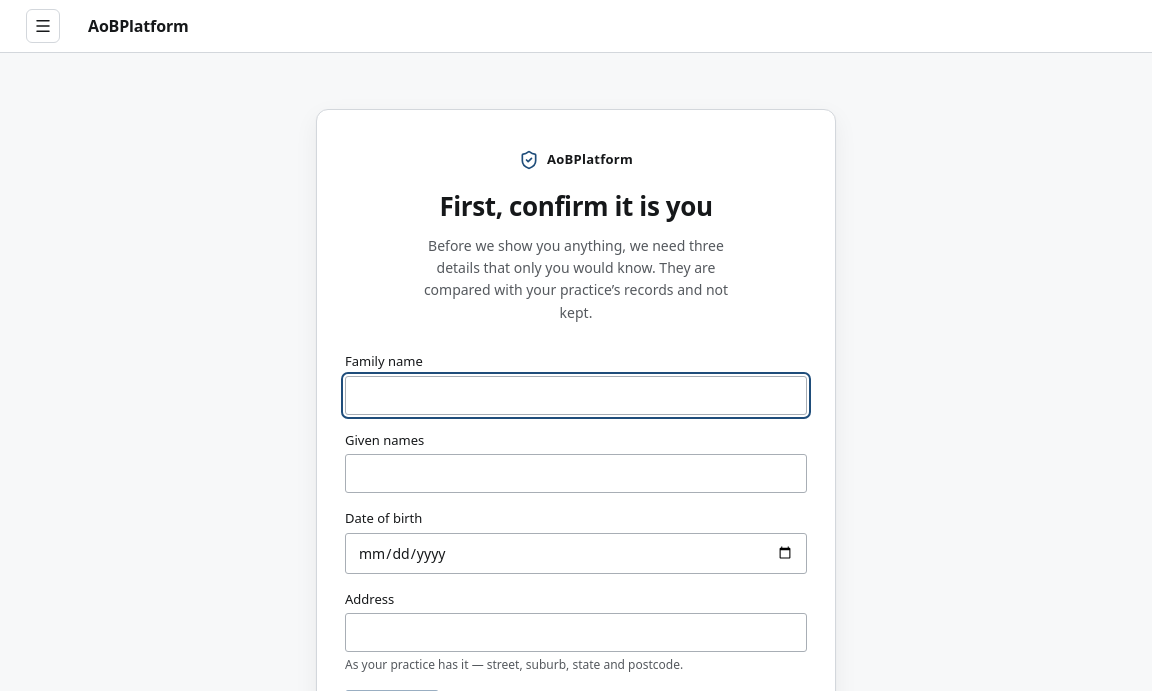
Test: signature_screen_names_the_assignor_and_relationship_when_not_the_patient › names the assignor, the patient and the relationship
In the field with test id "agree-family": (576, 395) [345,376,807,415], type "Fictional"
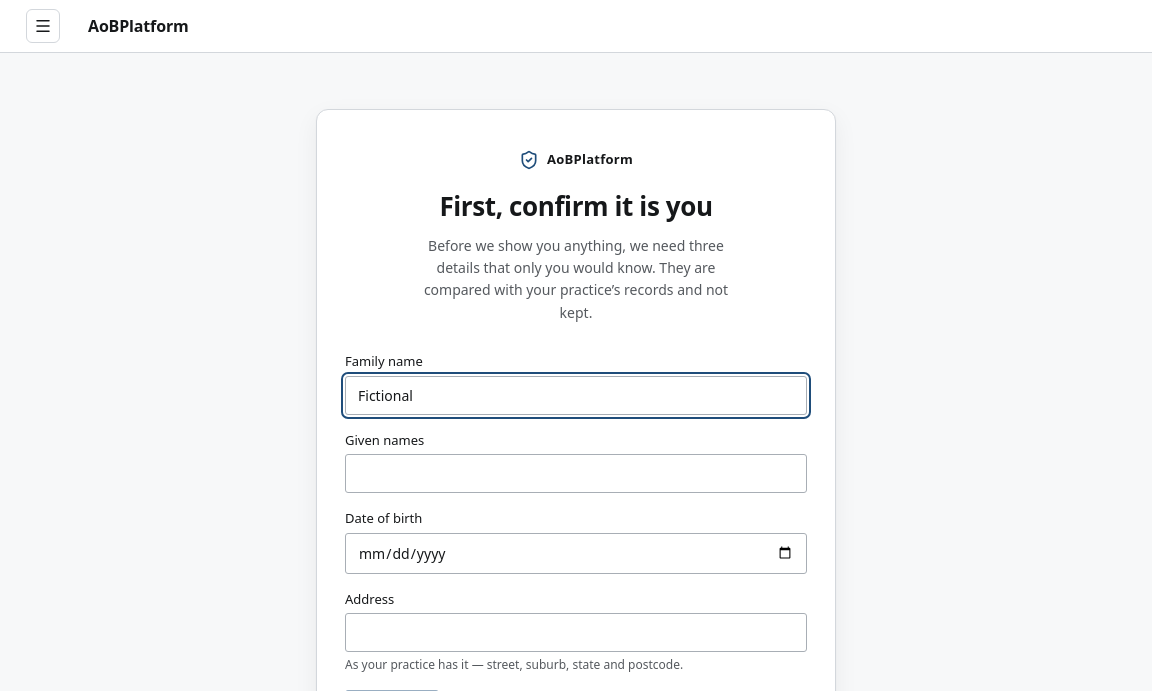
In the field with test id "agree-given": (576, 474) [345,454,807,493], type "Alex"
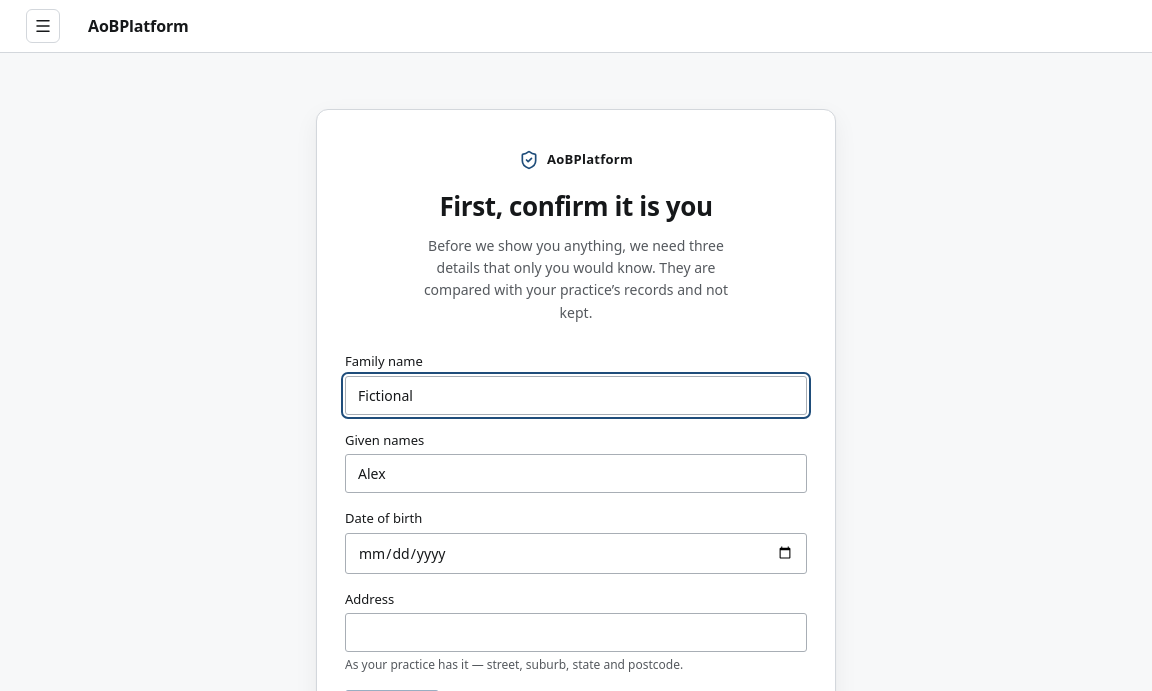
In the date field with test id "agree-dob": (576, 553) [345,533,807,574], type "1988-03-09"
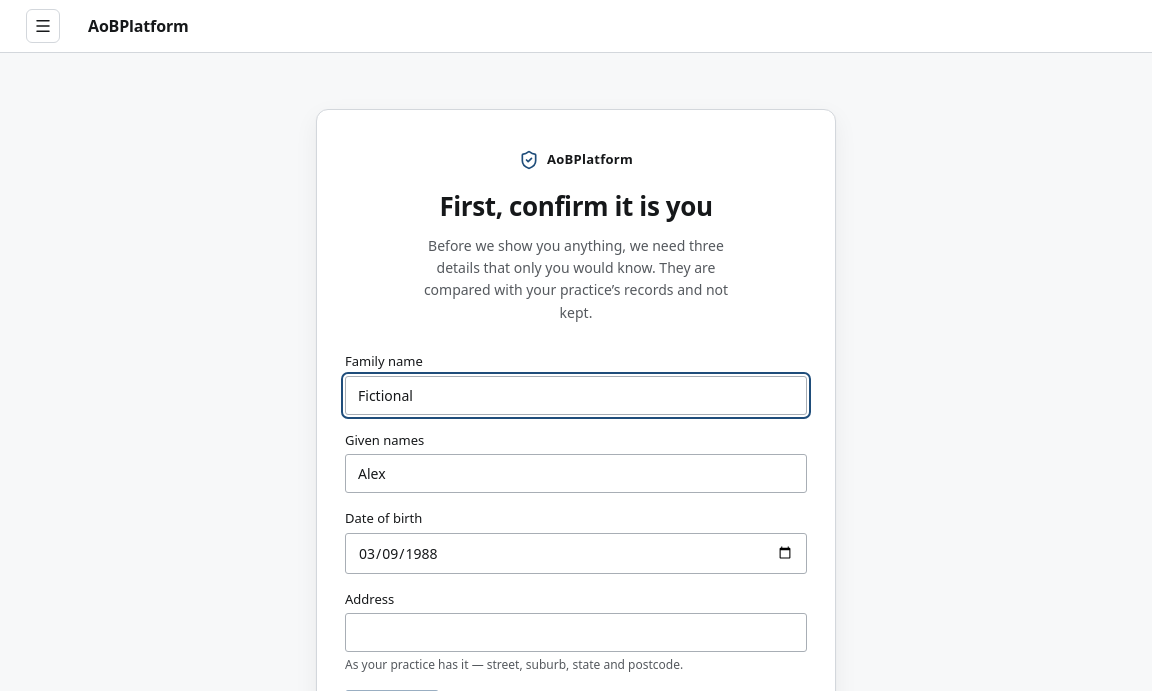
In the field with test id "agree-address": (576, 633) [345,613,807,652], type "7 Sample Road, Sampletown NSW 2000"
(page scrolled)
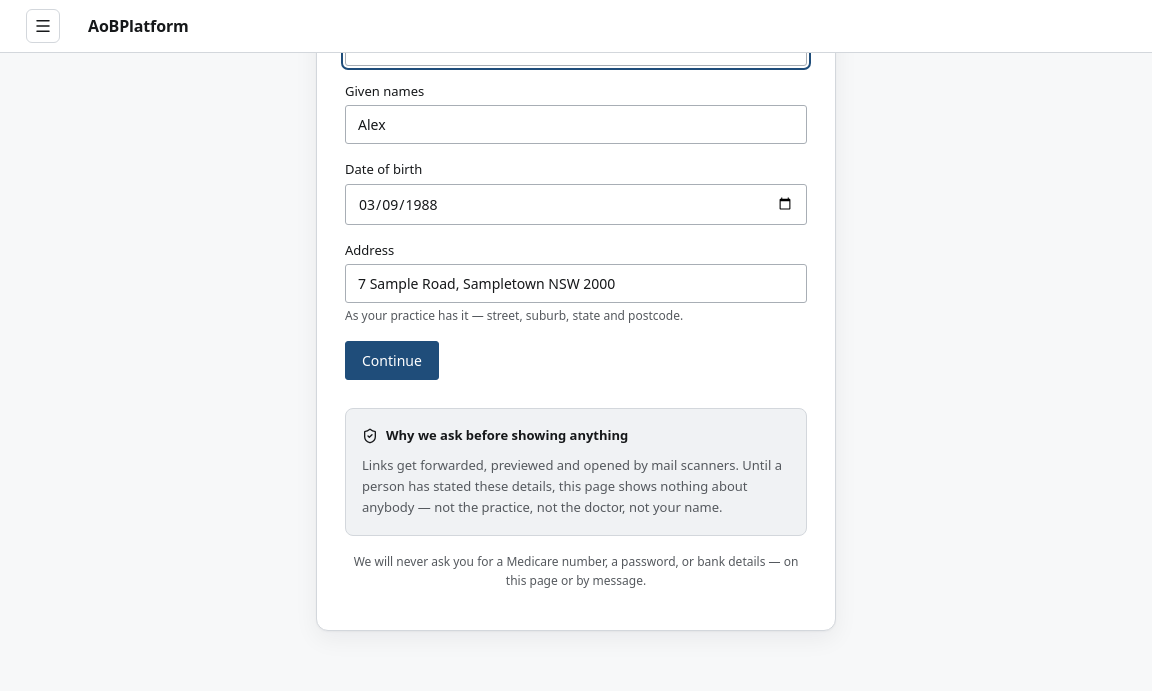
Click the button with test id "agree-verify": (392, 361) [345,341,439,380]
(page scrolled)
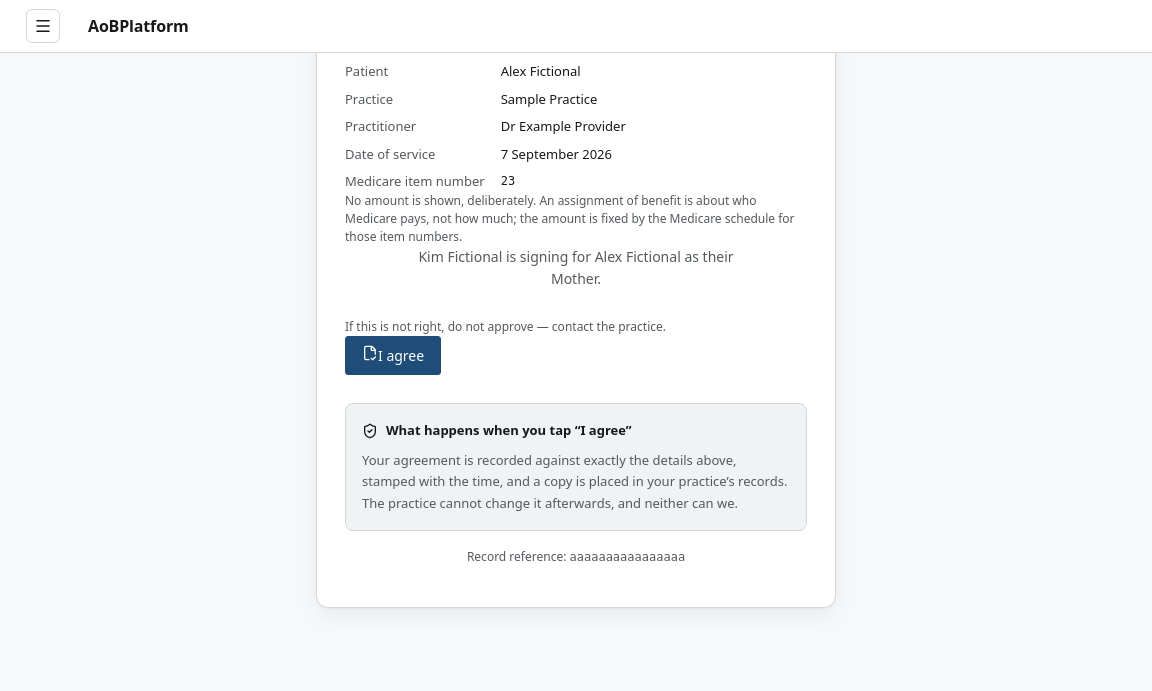
Expected: the element with test id "agree-particulars" is shown, [345,62,626,190]
Expected: the text with test id "agree-who" shows "Kim Fictional", [418,247,734,288]
Expected: the text with test id "agree-who" shows "Alex Fictional", [418,247,734,288]
